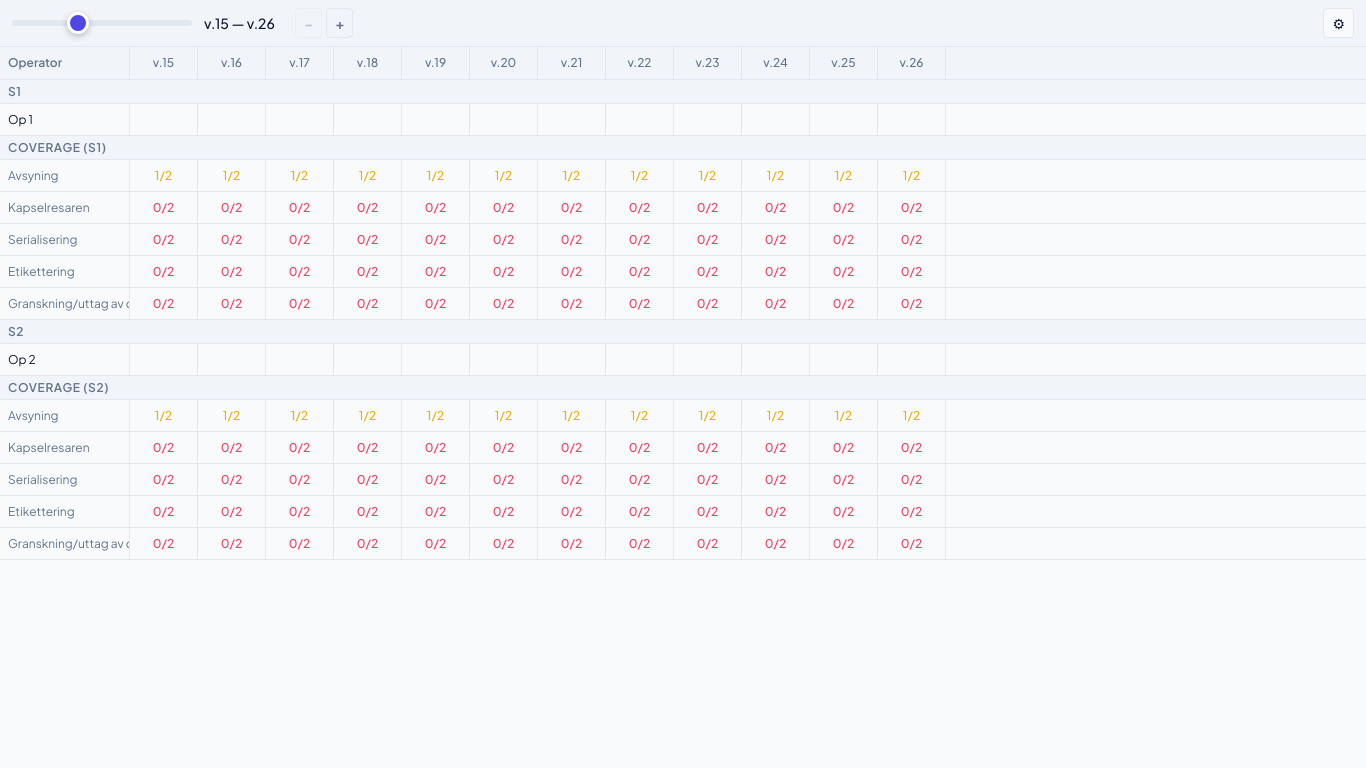
CalendarGrid › shows tools row when gear button clicked
Click the button "⚙".
click(1339, 23)  # box [1323,8,1354,38]
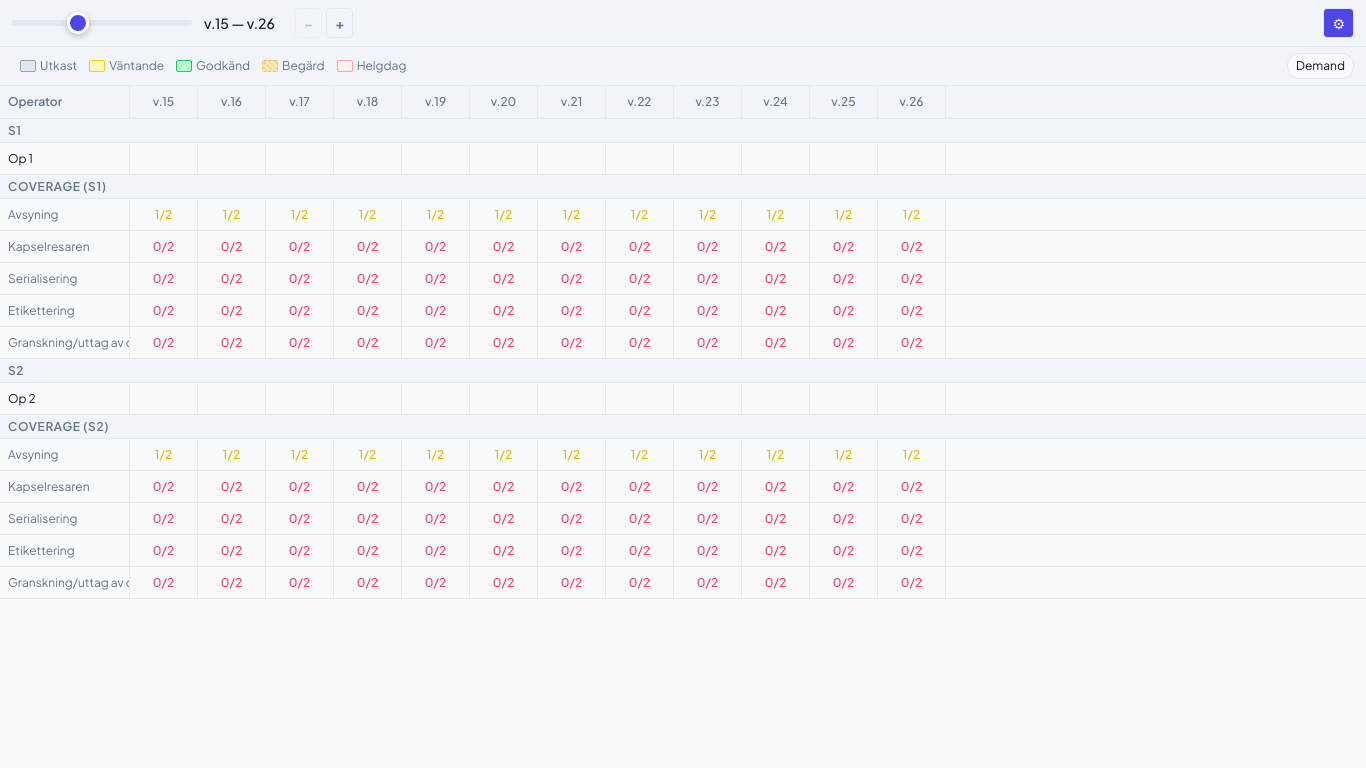
Result: the text "Utkast" is shown at [20,58,77,74]
Result: the text "Godkänd" is shown at [176,58,250,74]
